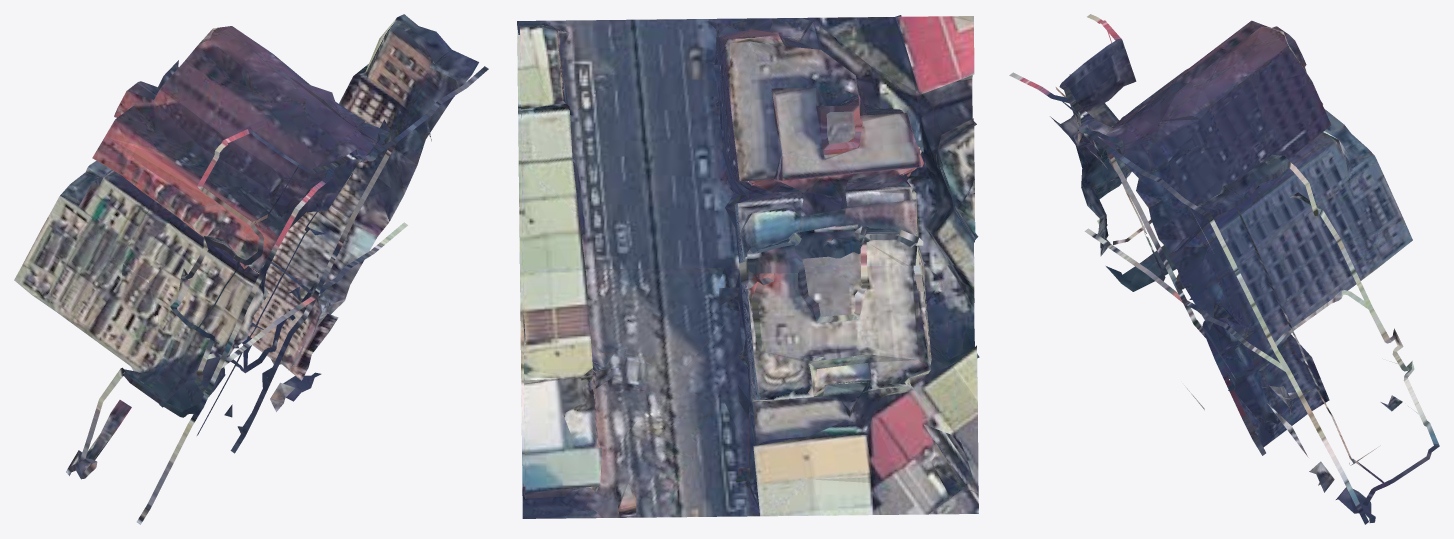
The picture shows the model from 3 angles, left to right: view 1: azimuth 30°, elevation 25°; view 2: azimuth 150°, elevation 25°; view 3: azimuth 270°, elevation 25°; orthographic projection. The views are drawn at different scales.
Bounding box in the file's own units: 85.38 × 82.77 × 77.03.
Materials: 2 (2 with a texture image).
